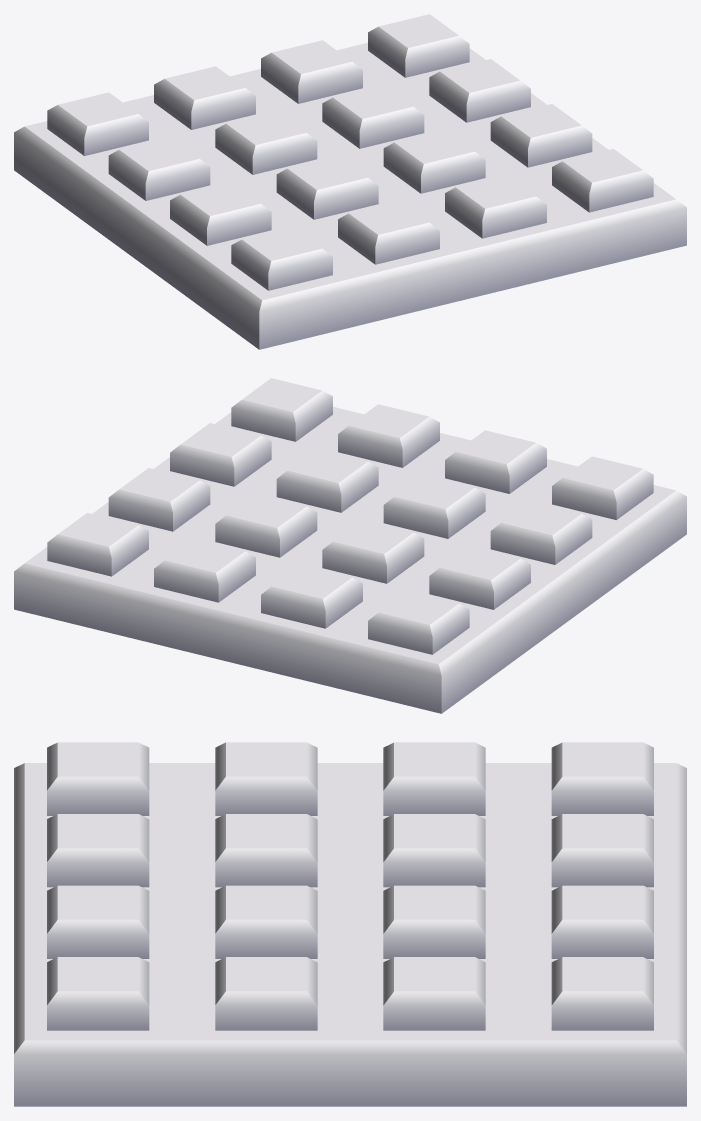
Rendered from kenney-brick-square-hq-plate-4-x-4.glb.
3 renders of one model, top to bottom at view 1: azimuth 30°, elevation 25°; view 2: azimuth 150°, elevation 25°; view 3: azimuth 270°, elevation 25°, orthographic. The views are drawn at different scales.
Visible parts, largest first — view 1: square-hq-plate-4x4; view 2: square-hq-plate-4x4; view 3: square-hq-plate-4x4.
Boxes of the visible parts, bbox=[...] form: square-hq-plate-4x4: bbox=[14, 14, 686, 349]; square-hq-plate-4x4: bbox=[14, 378, 686, 713]; square-hq-plate-4x4: bbox=[14, 742, 686, 1106].
Bounding box in the file's own units: 0.318 × 0.05 × 0.316.
1 material, 1 textured.
